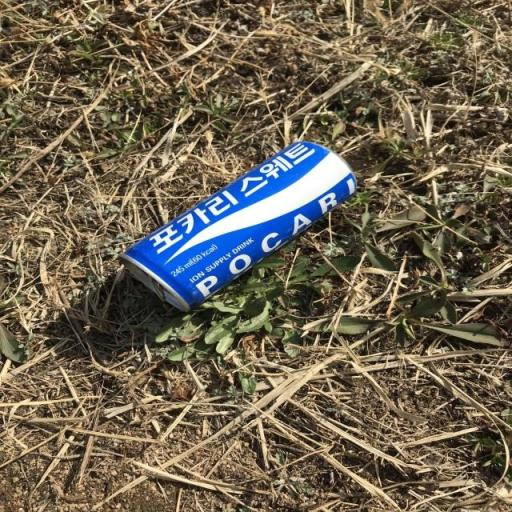metal: (105, 124, 373, 336)
